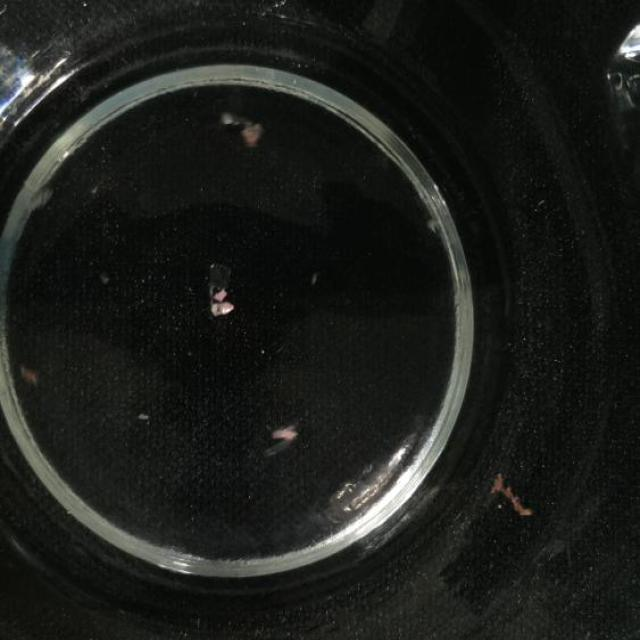fiber: (490, 473, 540, 526), (222, 102, 261, 148), (211, 262, 233, 320), (16, 358, 42, 390), (272, 426, 302, 444)
